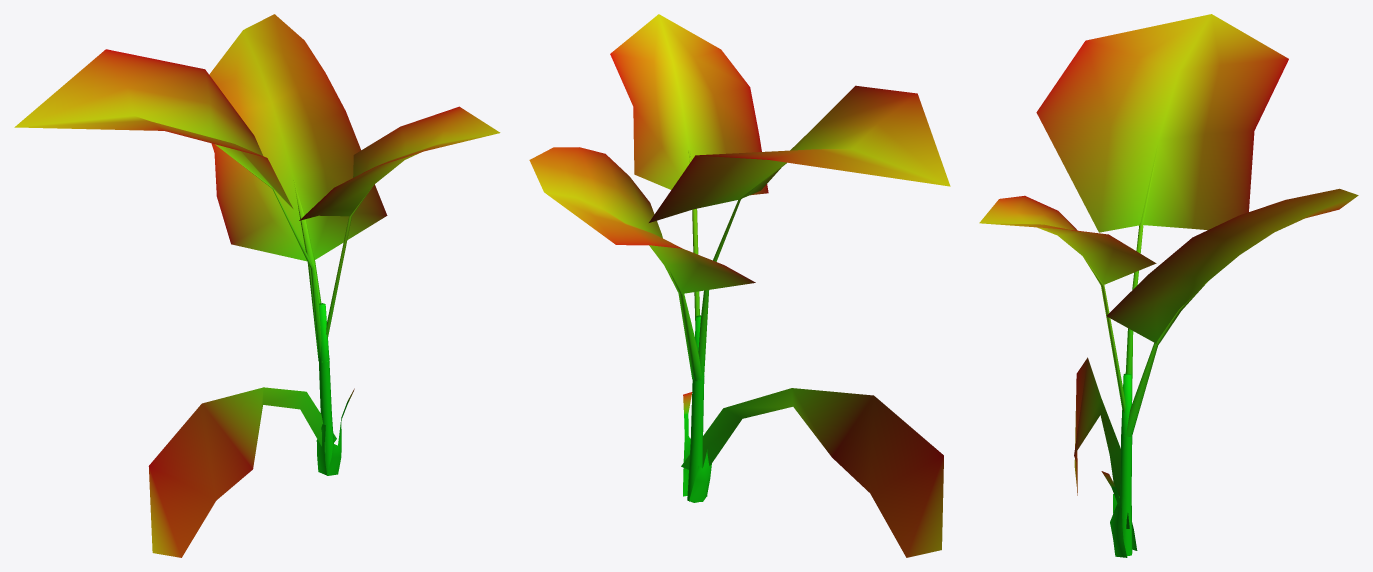
Rendered from Cat Palm_LOD2_Var3_tjejafeia.fbx.
The picture shows the model from 3 angles, left to right: view 1: azimuth 30°, elevation 25°; view 2: azimuth 150°, elevation 25°; view 3: azimuth 270°, elevation 25°; orthographic projection. The views are drawn at different scales.
Visible parts, largest first — view 1: _e19c_Var3_LOD2; view 2: _e19c_Var3_LOD2; view 3: _e19c_Var3_LOD2.
Boxes of the visible parts, x1=… form: _e19c_Var3_LOD2: x1=14, y1=14, x2=500, y2=557; _e19c_Var3_LOD2: x1=529, y1=14, x2=950, y2=557; _e19c_Var3_LOD2: x1=979, y1=14, x2=1358, y2=557.
Size of the model in its own units: 78.35 by 85.16 by 65.09.
